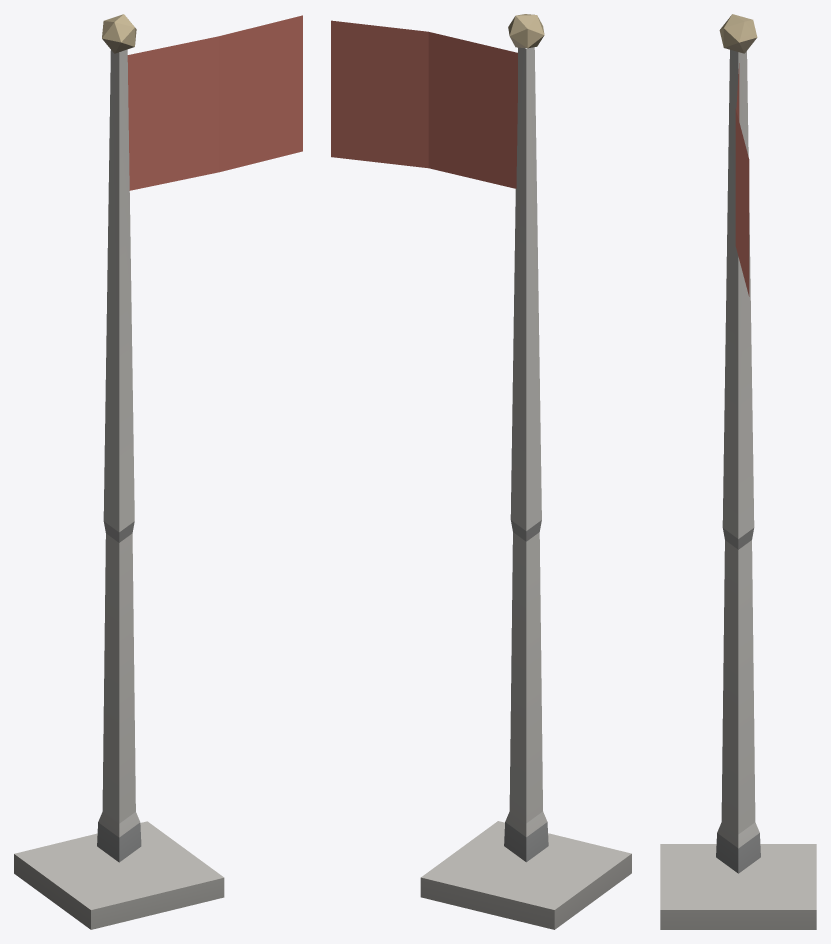
Rendered from redflag.lod2.glb.
3 views of the same model, side by side, from view 1: azimuth 30°, elevation 25°; view 2: azimuth 150°, elevation 25°; view 3: azimuth 270°, elevation 25° (orthographic).
Size of the model in its own units: 2.3 by 7.46 by 1.2.
